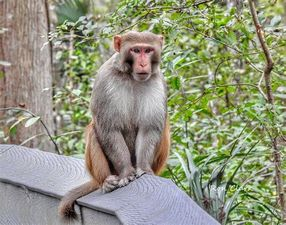monkey: (48, 12, 202, 189)
